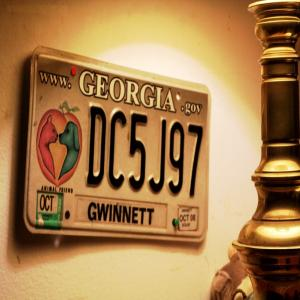Vehicle-registration-plate: (23, 45, 213, 243)
